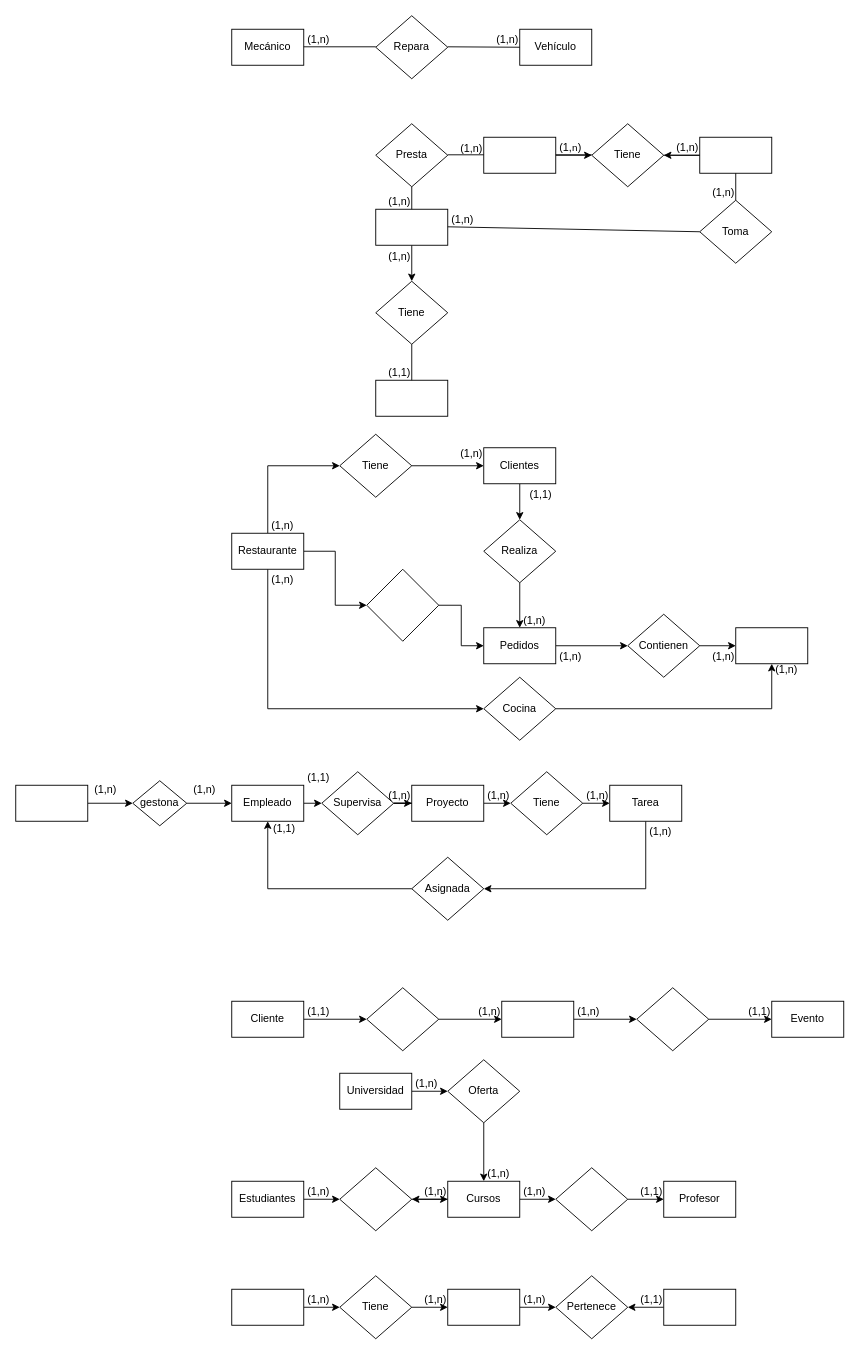
This 860x1355 diagram has some shape labels left out. Here are the shapes that lost their labels. From the top down, the box of each, then its label:
(483, 136, 556, 173): Biblioteca
(699, 136, 772, 173): Socios
(375, 208, 448, 245): Libros
(375, 379, 448, 416): Autor
(366, 568, 439, 641): gestiona
(735, 627, 808, 664): Platos
(15, 784, 88, 821): Empresa
(366, 987, 439, 1051): Compra
(501, 1000, 574, 1037): Entradas
(636, 987, 709, 1051): para
(339, 1167, 412, 1231): Inscrito
(555, 1167, 628, 1231): Imparte
(231, 1288, 304, 1325): Supermercado
(447, 1288, 520, 1325): Productos
(663, 1288, 736, 1325): Categoría
